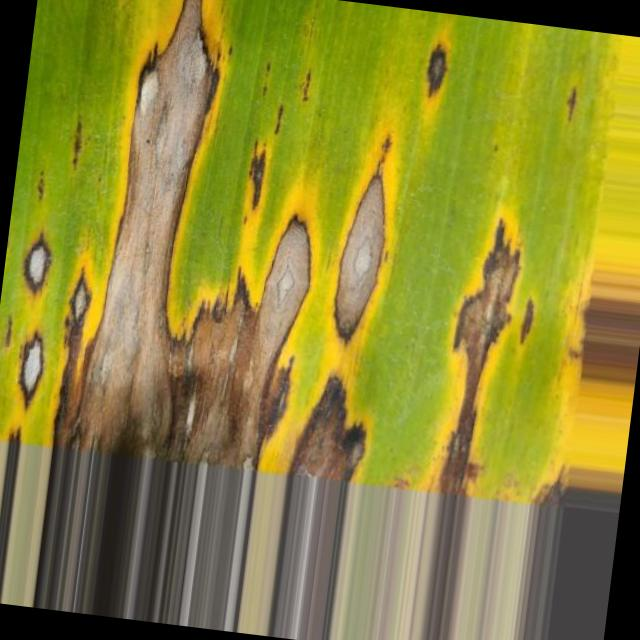Banana_Yellow_Sigatoka: (51, 0, 567, 506), (4, 312, 67, 436), (1, 230, 72, 304)
